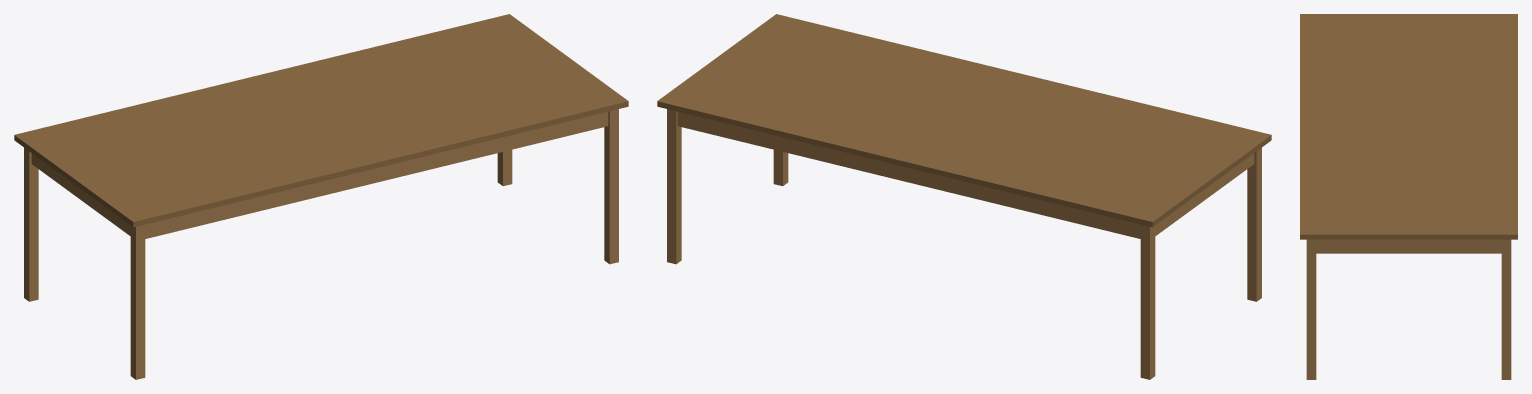
Rendered from HIN-DTB-8-seat.glb.
The picture shows the model from 3 angles, left to right: view 1: azimuth 30°, elevation 25°; view 2: azimuth 150°, elevation 25°; view 3: azimuth 270°, elevation 25°; orthographic projection. The views are drawn at different scales.
Visible parts, largest first — view 1: top:pbr, apron-f:pbr, leg-fl:pbr, leg-fr:pbr, leg-bl:pbr, apron-l:pbr, leg-br:pbr; view 2: top:pbr, apron-b:pbr, leg-bl:pbr, leg-br:pbr, leg-fl:pbr, apron-l:pbr, leg-fr:pbr; view 3: top:pbr, apron-r:pbr, leg-fr:pbr, leg-br:pbr.
Boxes of the visible parts, x1,y1,x2,y2 form: top:pbr: [14, 14, 628, 227]; apron-f:pbr: [145, 111, 608, 238]; leg-fl:pbr: [130, 224, 145, 379]; leg-fr:pbr: [604, 109, 618, 264]; leg-bl:pbr: [24, 147, 38, 301]; apron-l:pbr: [31, 153, 130, 235]; leg-br:pbr: [497, 149, 512, 186]; top:pbr: [657, 14, 1271, 227]; apron-b:pbr: [677, 111, 1140, 238]; leg-bl:pbr: [1140, 224, 1155, 379]; leg-br:pbr: [667, 109, 681, 264]; leg-fl:pbr: [1247, 147, 1261, 301]; apron-l:pbr: [1155, 153, 1254, 235]; leg-fr:pbr: [773, 149, 788, 186]; top:pbr: [1300, 14, 1517, 239]; apron-r:pbr: [1316, 239, 1501, 253]; leg-fr:pbr: [1306, 239, 1316, 379]; leg-br:pbr: [1501, 239, 1511, 379].
Size of the model in its own units: 2.4 by 0.75 by 1.
